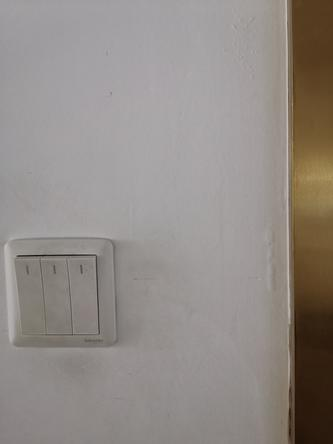switch: (61, 250, 101, 338), (38, 250, 74, 339), (12, 250, 48, 337)
